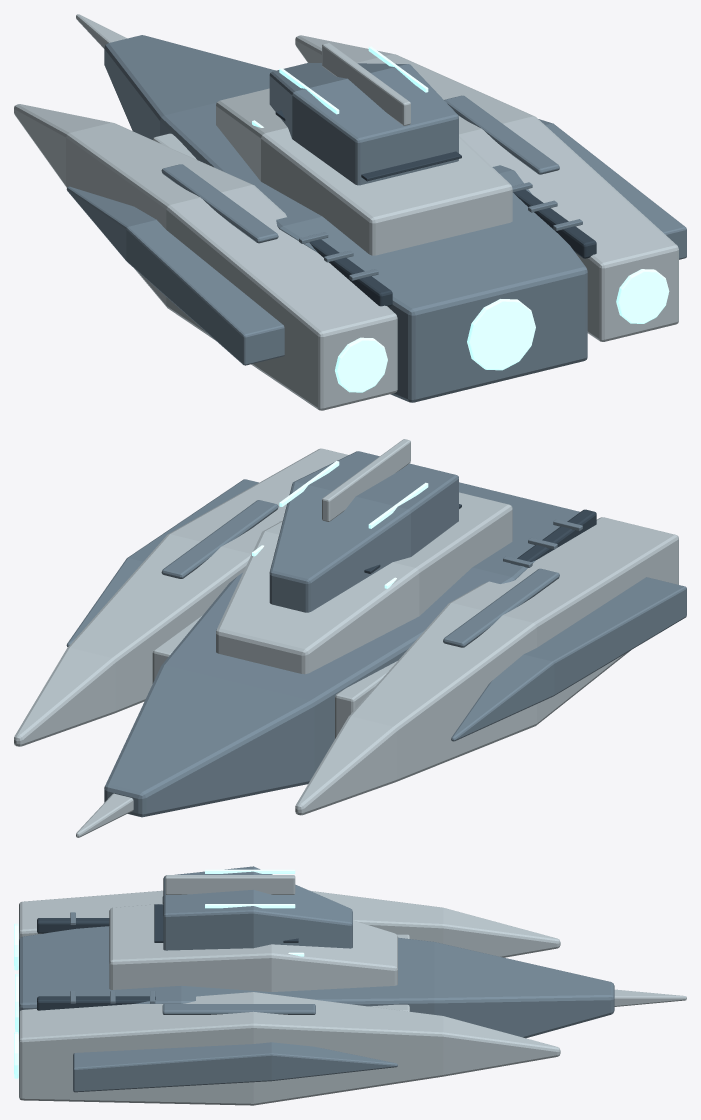
The model's file is Command.fbx.
3 views of the same model, one above another, from view 1: azimuth 30°, elevation 25°; view 2: azimuth 150°, elevation 25°; view 3: azimuth 270°, elevation 25° (orthographic). The views are drawn at different scales.
Parts seen in each view (by area): view 1: VisualMesh; view 2: VisualMesh; view 3: VisualMesh.
Part boxes in pixels (x1=…): VisualMesh: x1=14, y1=14, x2=686, y2=410; VisualMesh: x1=14, y1=439, x2=686, y2=837; VisualMesh: x1=14, y1=866, x2=686, y2=1105.
Bounding box in the file's own units: 22.39 × 10.85 × 37.27.
